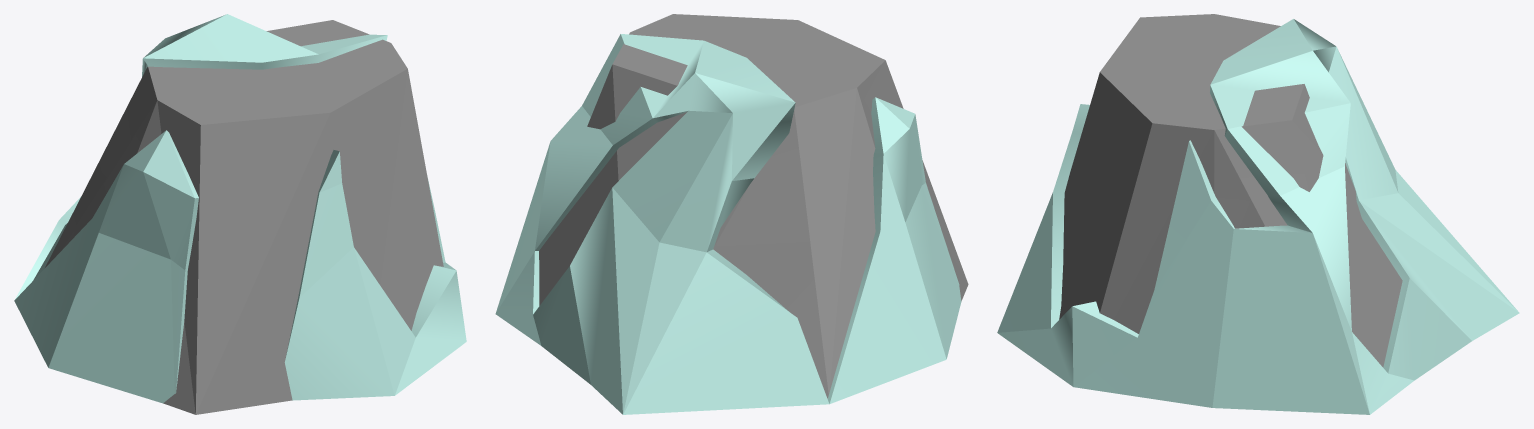
File: Rock5.FBX
3 views of the same model, side by side, from view 1: azimuth 30°, elevation 25°; view 2: azimuth 150°, elevation 25°; view 3: azimuth 270°, elevation 25° (orthographic). The views are drawn at different scales.
Parts seen in each view (by area): view 1: Rock5, Rock5_b; view 2: Rock5_b, Rock5; view 3: Rock5_b, Rock5.
Part boxes in pixels (x1=…): Rock5: x1=45, y1=20, x2=443, y2=414; Rock5_b: x1=14, y1=14, x2=466, y2=403; Rock5_b: x1=495, y1=34, x2=961, y2=414; Rock5: x1=539, y1=14, x2=968, y2=398; Rock5_b: x1=997, y1=19, x2=1519, y2=414; Rock5: x1=1059, y1=14, x2=1402, y2=367.
Bounding box in the file's own units: 3813 × 2492 × 4274.
